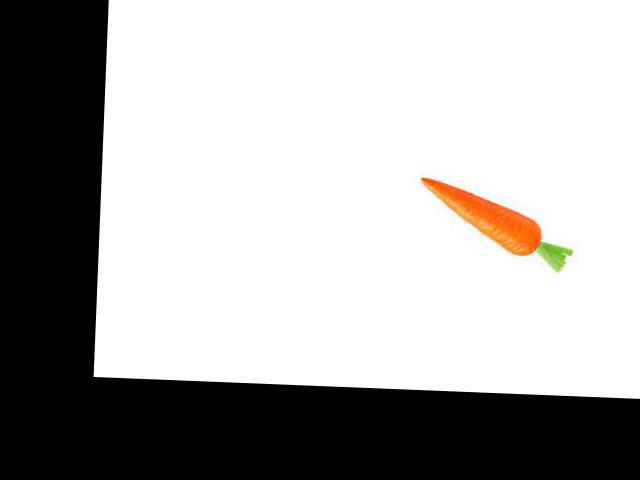carrot: (415, 170, 546, 257)
